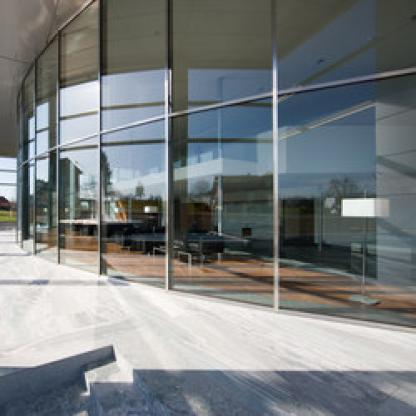window: (286, 101, 408, 303), (180, 121, 256, 283), (182, 12, 262, 86), (108, 143, 152, 271), (110, 12, 155, 106), (66, 155, 90, 263), (70, 37, 91, 128)
